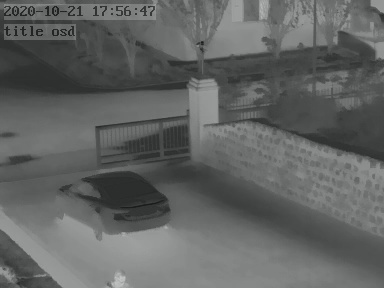vehicle: (55, 170, 173, 239)
